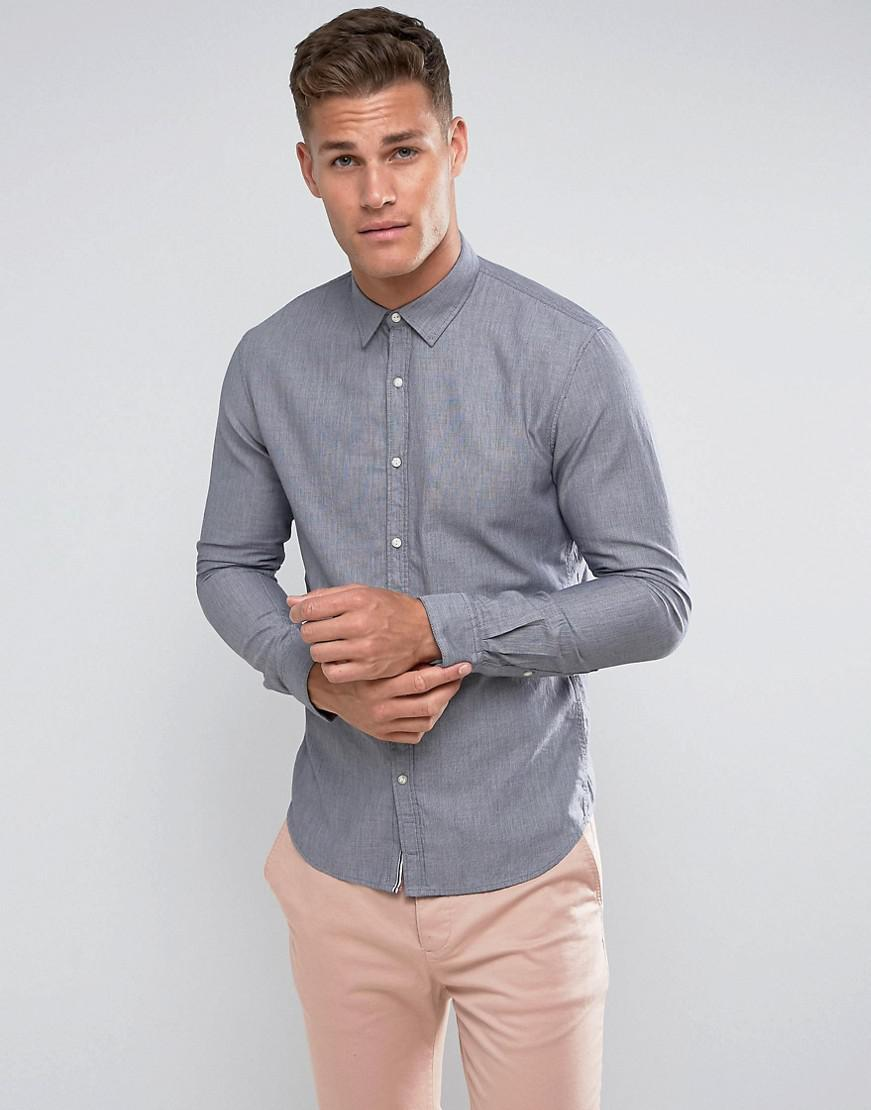teeshirt: (201, 261, 696, 912)
